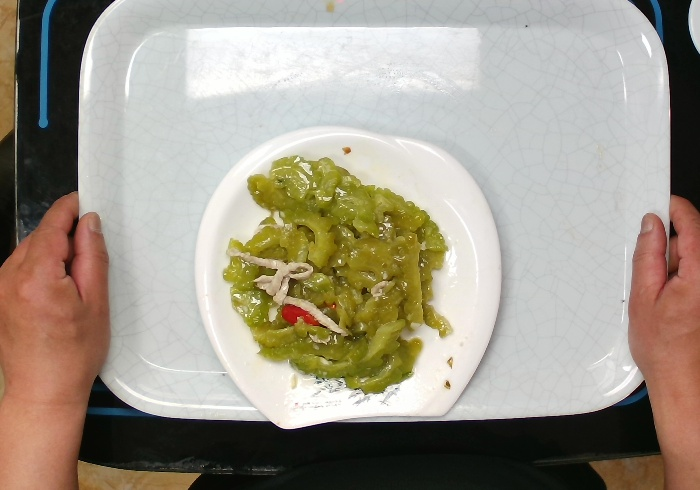JYsf-Mian_Pan: (183, 119, 507, 435)
